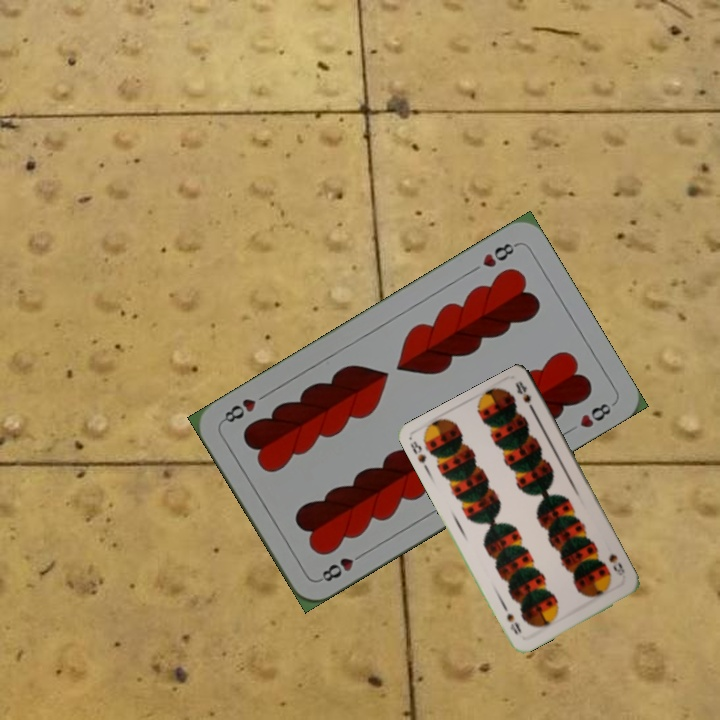H8: (315, 548, 368, 585), (478, 239, 521, 270)
S8: (406, 437, 429, 466), (604, 550, 627, 578)
